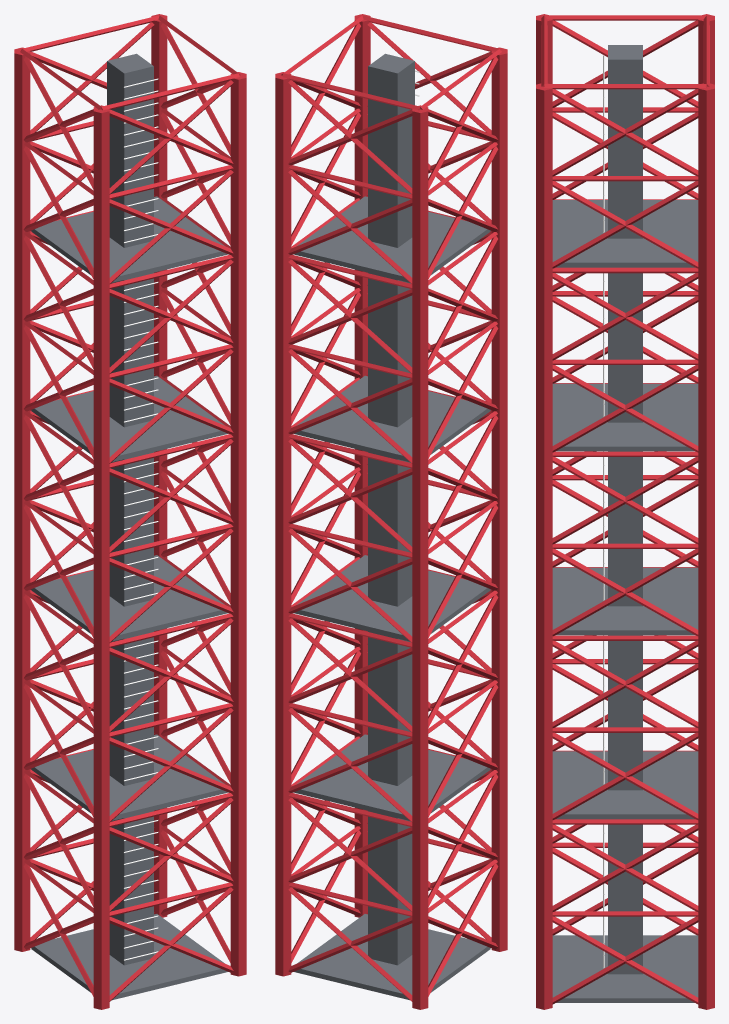
Rendered from mid-prebuilt_close.fbx.
3 renders of one model, left to right at view 1: azimuth 30°, elevation 25°; view 2: azimuth 150°, elevation 25°; view 3: azimuth 270°, elevation 25°, orthographic. The views are drawn at different scales.
Parts seen in each view (by area): view 1: landmark-great_tower/0/mid-prebuilt_close; view 2: landmark-great_tower/0/mid-prebuilt_close; view 3: landmark-great_tower/0/mid-prebuilt_close.
Boxes of the visible parts, left/top/right/bottom form: landmark-great_tower/0/mid-prebuilt_close: left=14, top=14, right=246, bottom=1009; landmark-great_tower/0/mid-prebuilt_close: left=275, top=14, right=507, bottom=1009; landmark-great_tower/0/mid-prebuilt_close: left=536, top=14, right=714, bottom=1009.
Size of the model in its own units: 13.4 by 75.42 by 13.21.
